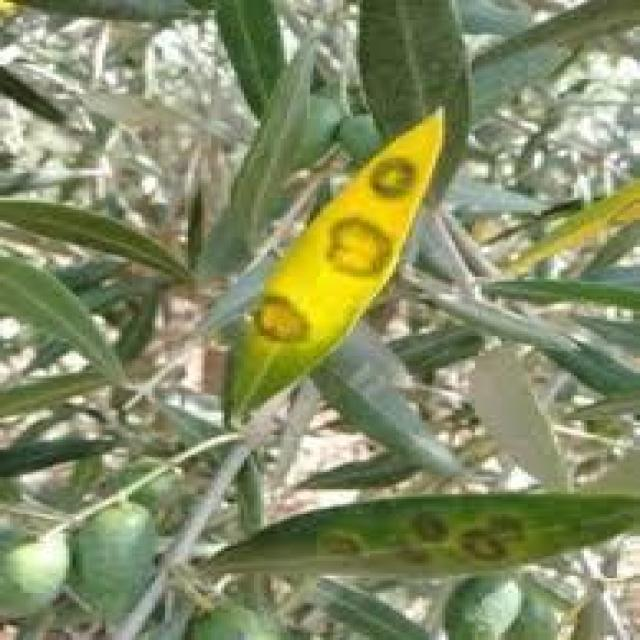Peacock Eye: (231, 109, 442, 413), (201, 497, 637, 576)
